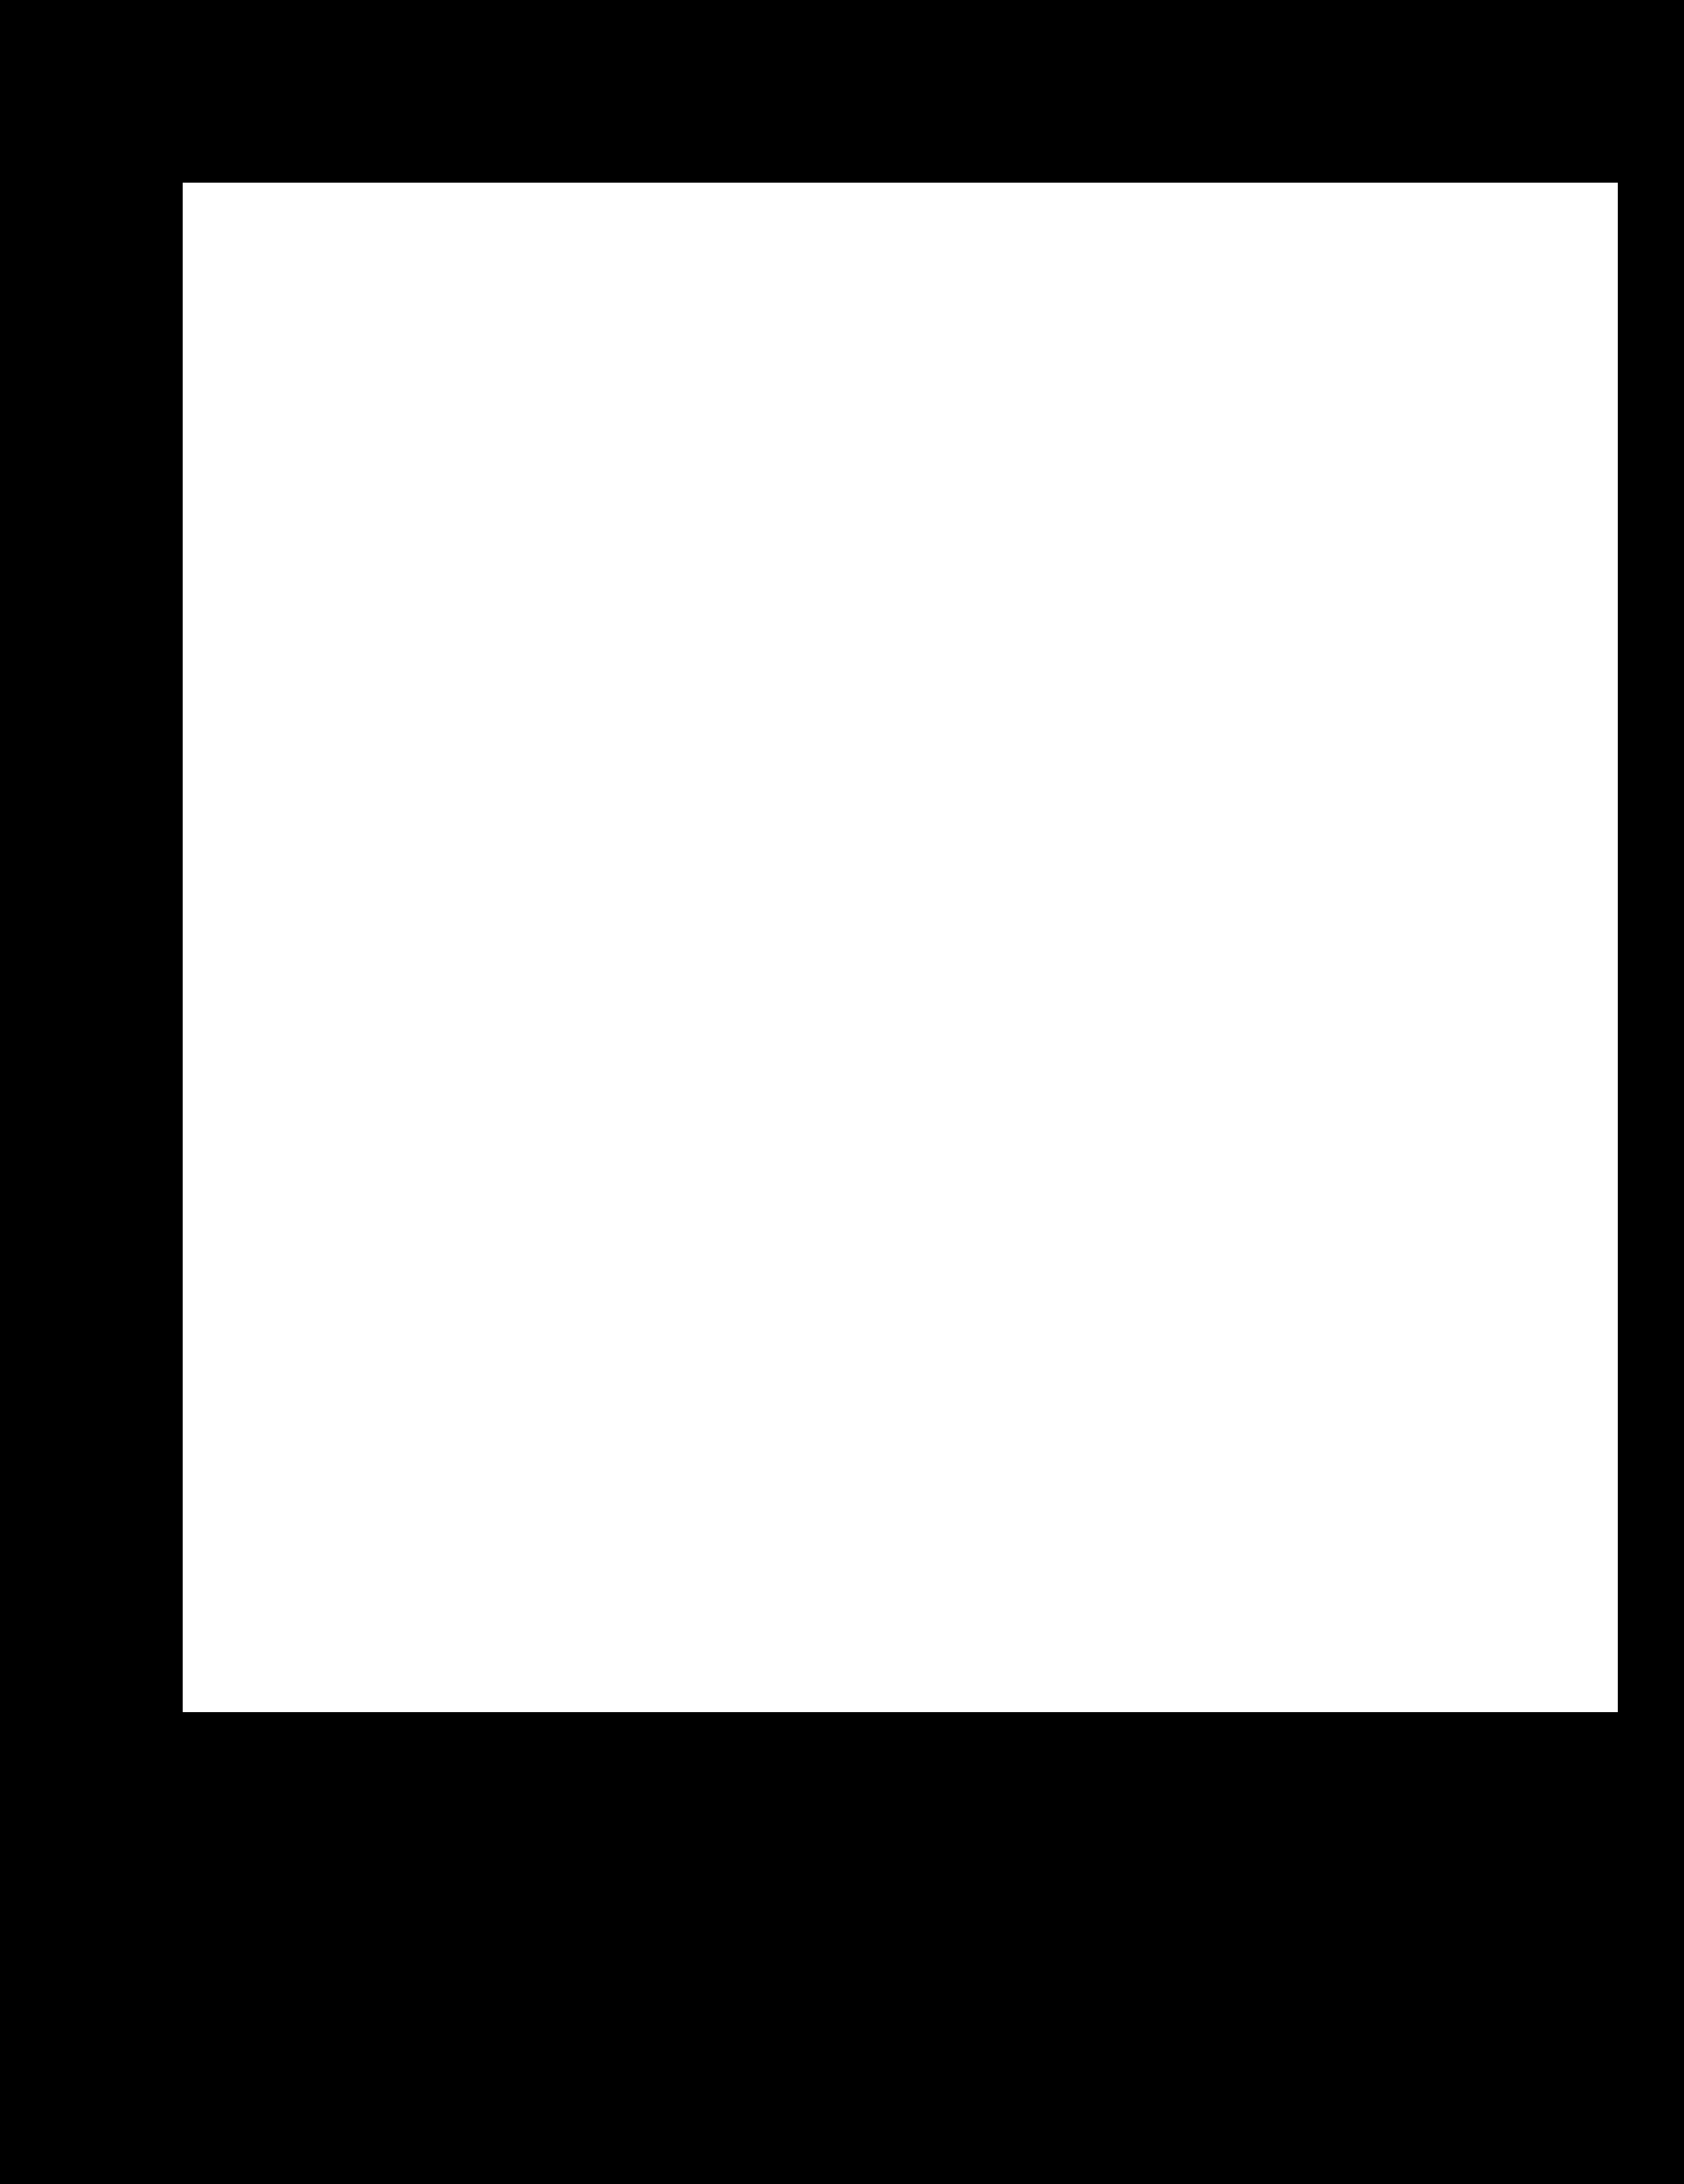table: (182, 182, 1617, 1712)
